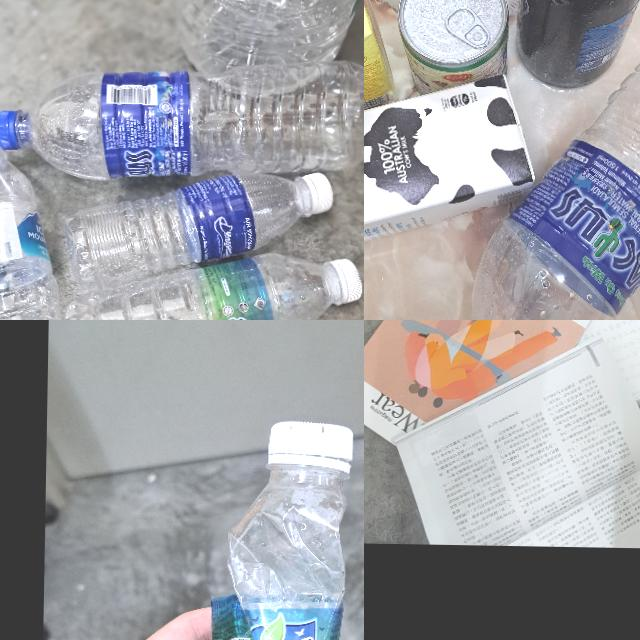aba de lata: (444, 5, 491, 48)
caixinha: (364, 67, 536, 280), (364, 0, 399, 113)
garrafa de vidro: (514, 0, 640, 89)
garrafa plástica: (464, 0, 640, 320), (21, 55, 364, 183), (63, 172, 310, 298), (201, 461, 357, 640), (62, 248, 339, 320), (172, 0, 364, 97), (0, 149, 75, 320)
lata: (395, 0, 509, 96)
papel: (364, 320, 640, 549)
tampa plástica: (268, 421, 356, 474), (321, 258, 364, 306), (298, 172, 334, 218), (0, 109, 20, 151)
